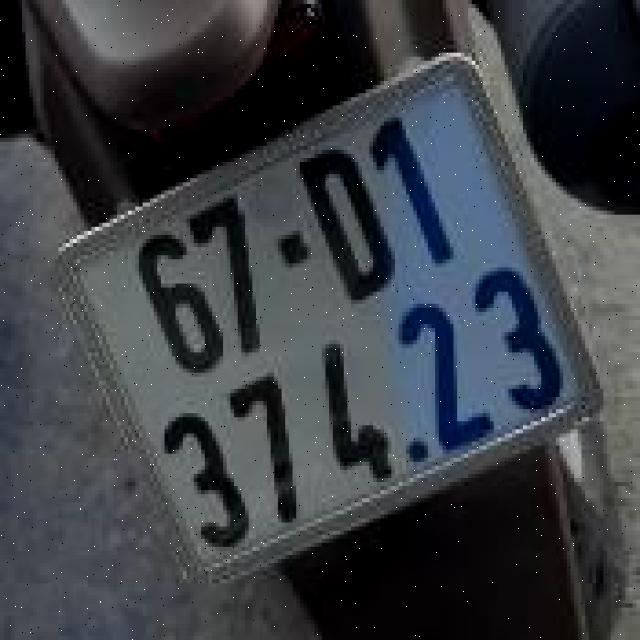1: (360, 106, 464, 279)
2: (383, 288, 503, 460)
3: (146, 401, 267, 562), (464, 255, 577, 422)
4: (301, 328, 405, 499)
6: (122, 222, 239, 391)
7: (180, 184, 299, 364), (216, 366, 332, 536)
D: (286, 133, 409, 316)
